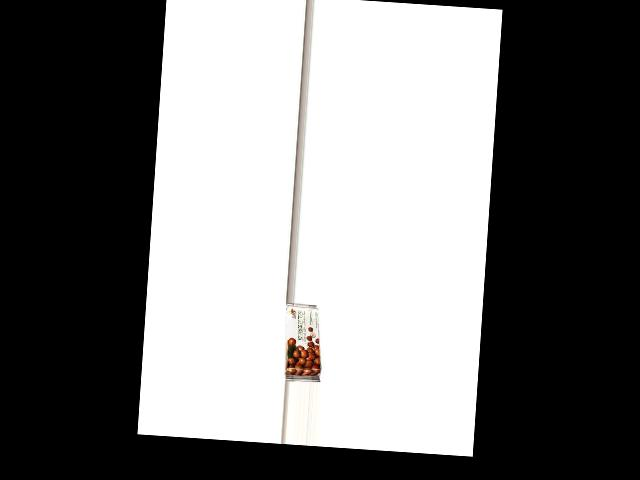chocolate: (283, 302, 326, 382)
